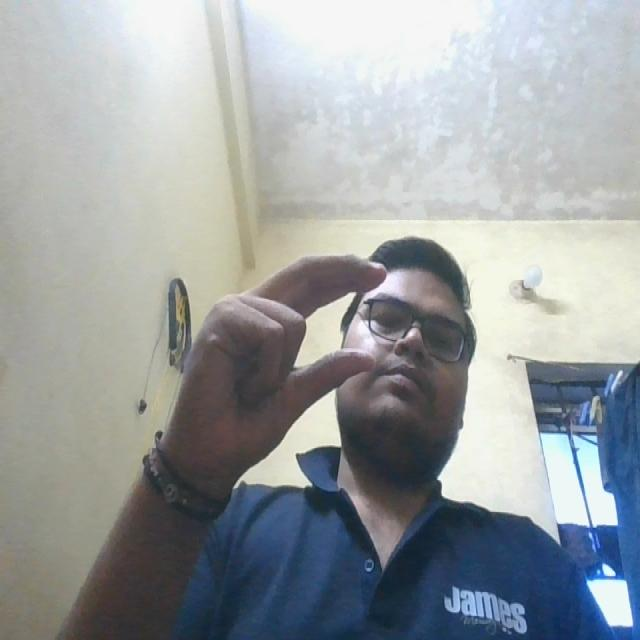No: (178, 225, 391, 460)
